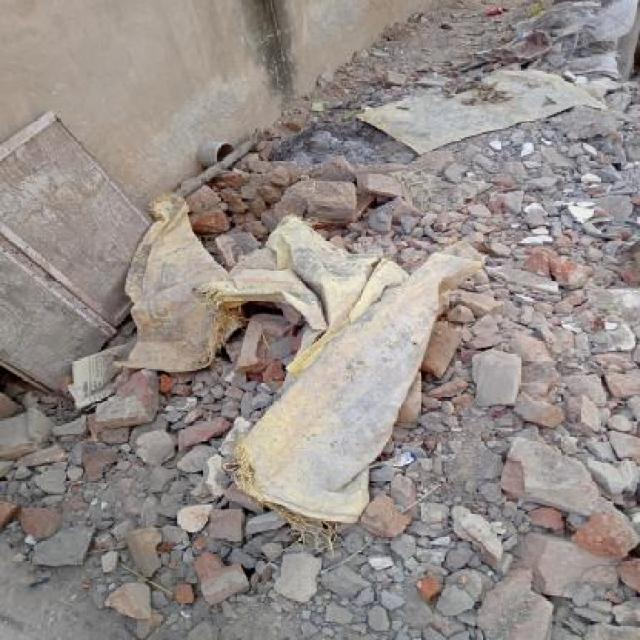garbage: (115, 197, 500, 493), (389, 60, 628, 174), (220, 160, 496, 252)
